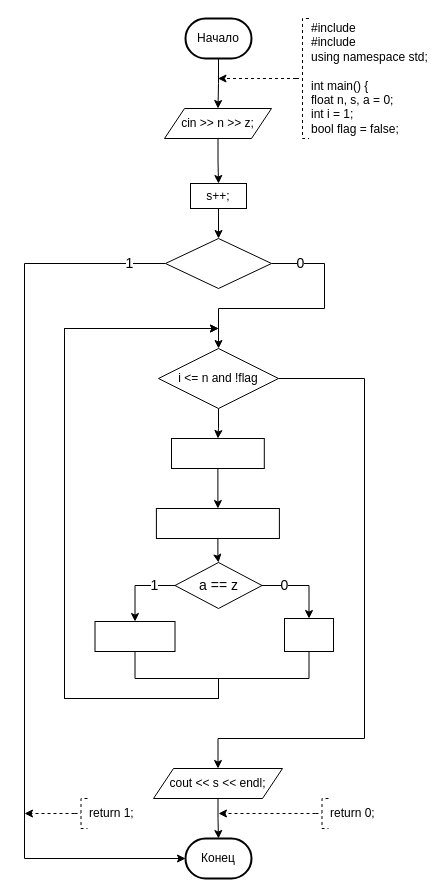
Image size: 445x896. Some labels were removed from this diagram. The centre of each missing label's shape, as x and y in pixels:
"a = round(a*10) / 10;" belongs at point (217, 523).
"a = sin(n + i/n);" belongs at point (217, 453).
"flag = true;" belongs at point (134, 636).
"i++;" belongs at point (309, 635).
"z > 1 or < -1" belongs at point (218, 263).
